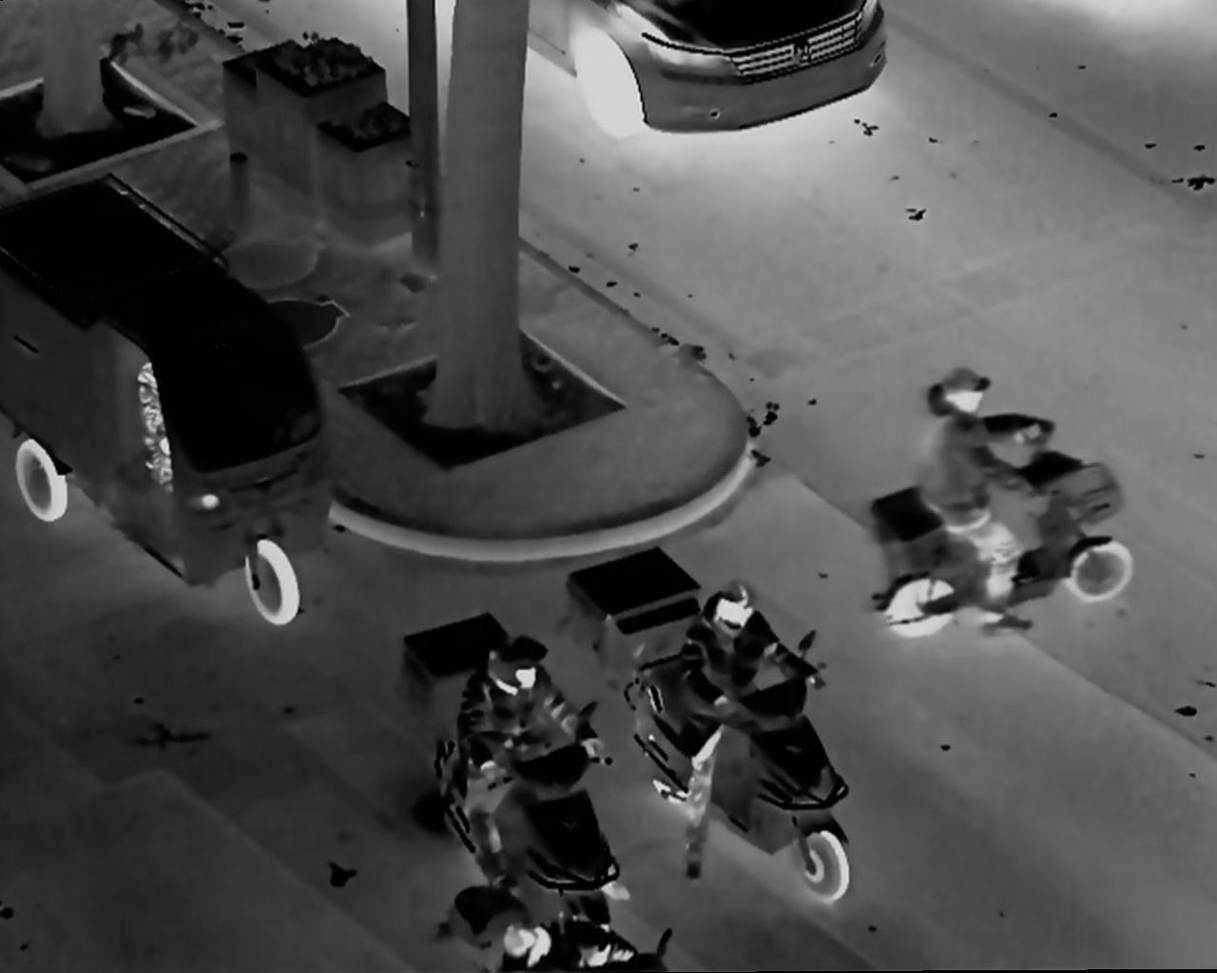person: (440, 632, 627, 904), (678, 566, 823, 897), (915, 359, 1067, 639)
